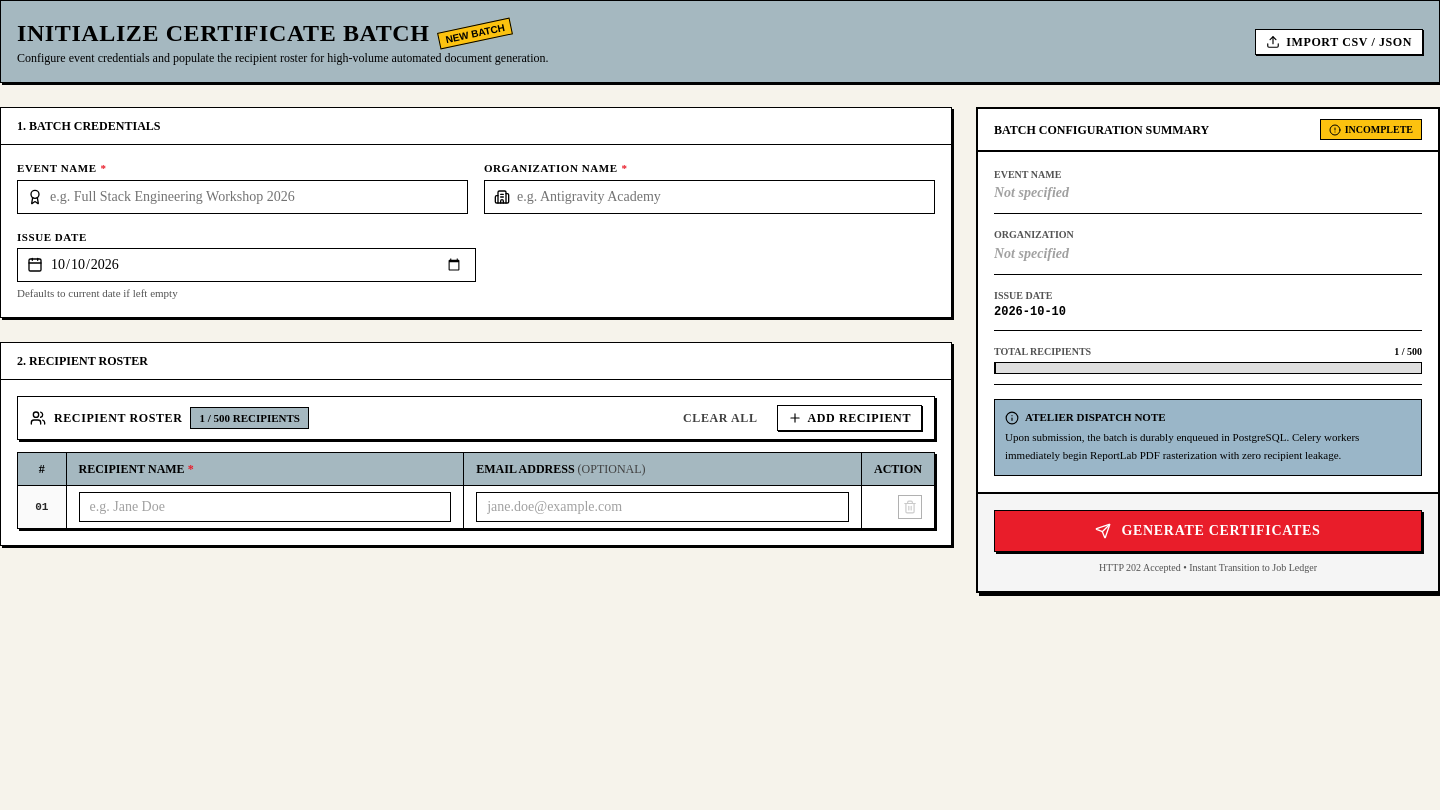
Test: CreateJobPage › 14. Form data remains intact after API failure
The image size is (1440, 810).
Type "Intact Event" into the field labelled "Event Name*" at [242, 197], box [17,180,468,214]
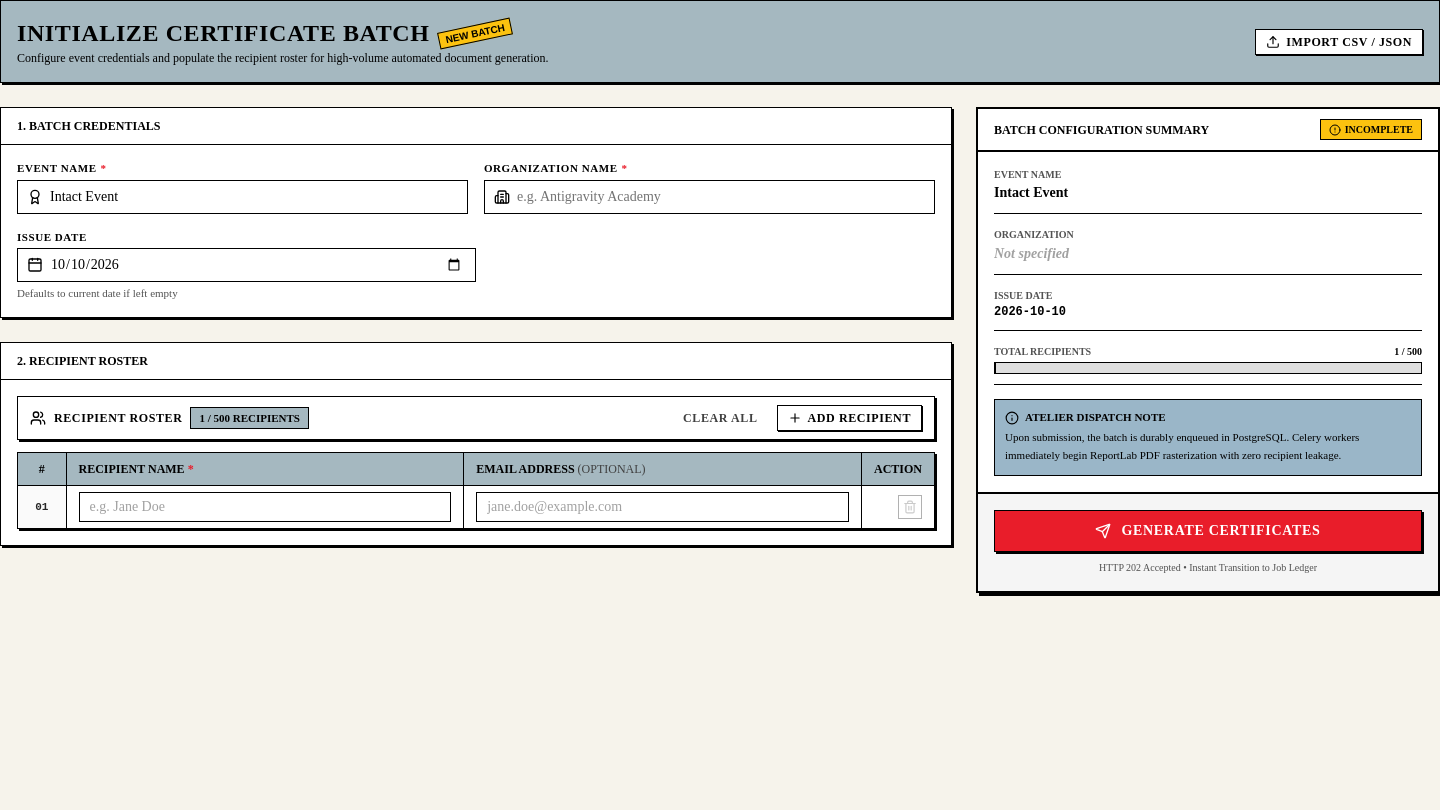
Type "Intact Org" into the field labelled "Organization Name*" at [710, 197], box [484,180,935,214]
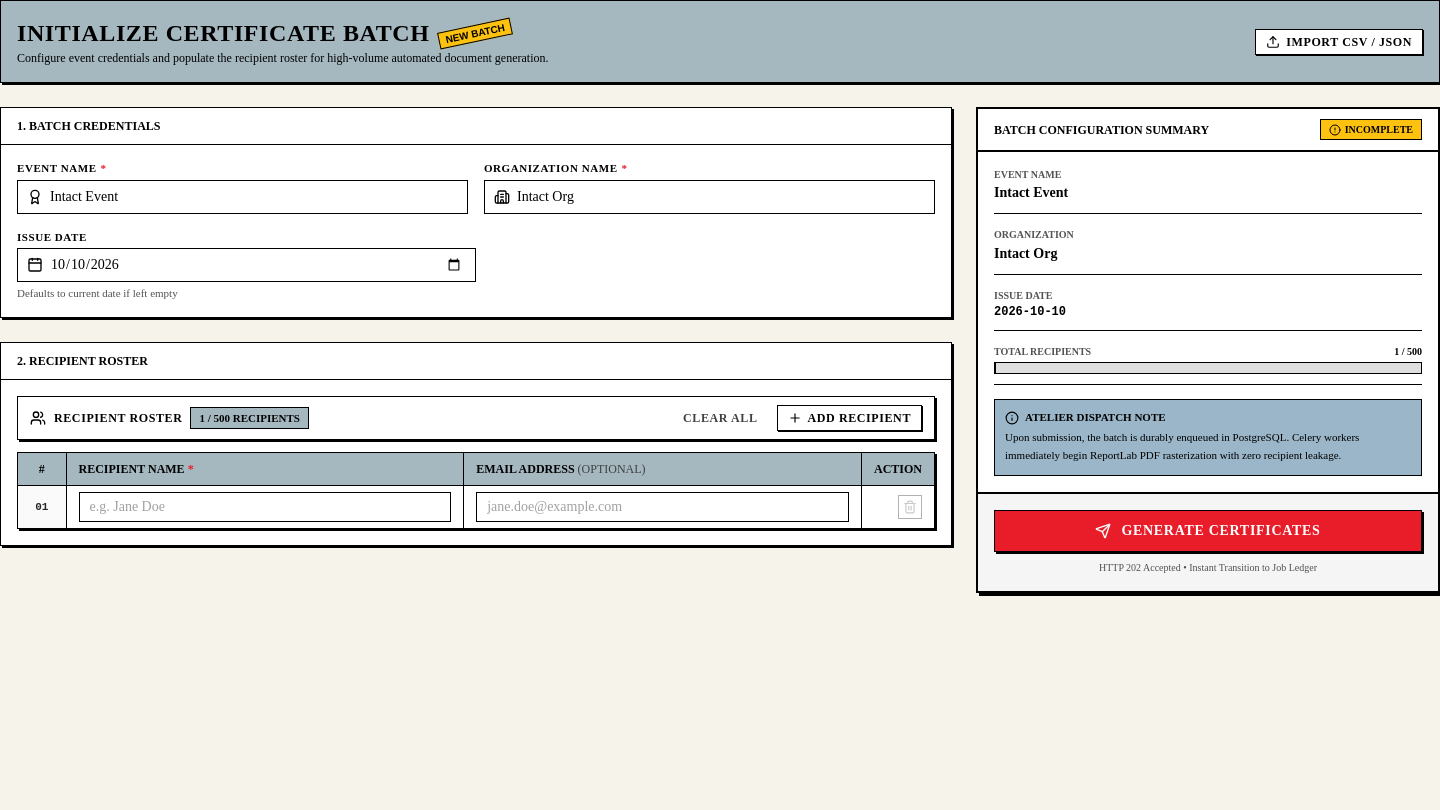
Type "Intact Recipient" into the field named "Recipient 01 Name" at [265, 507], box [78,492,451,522]
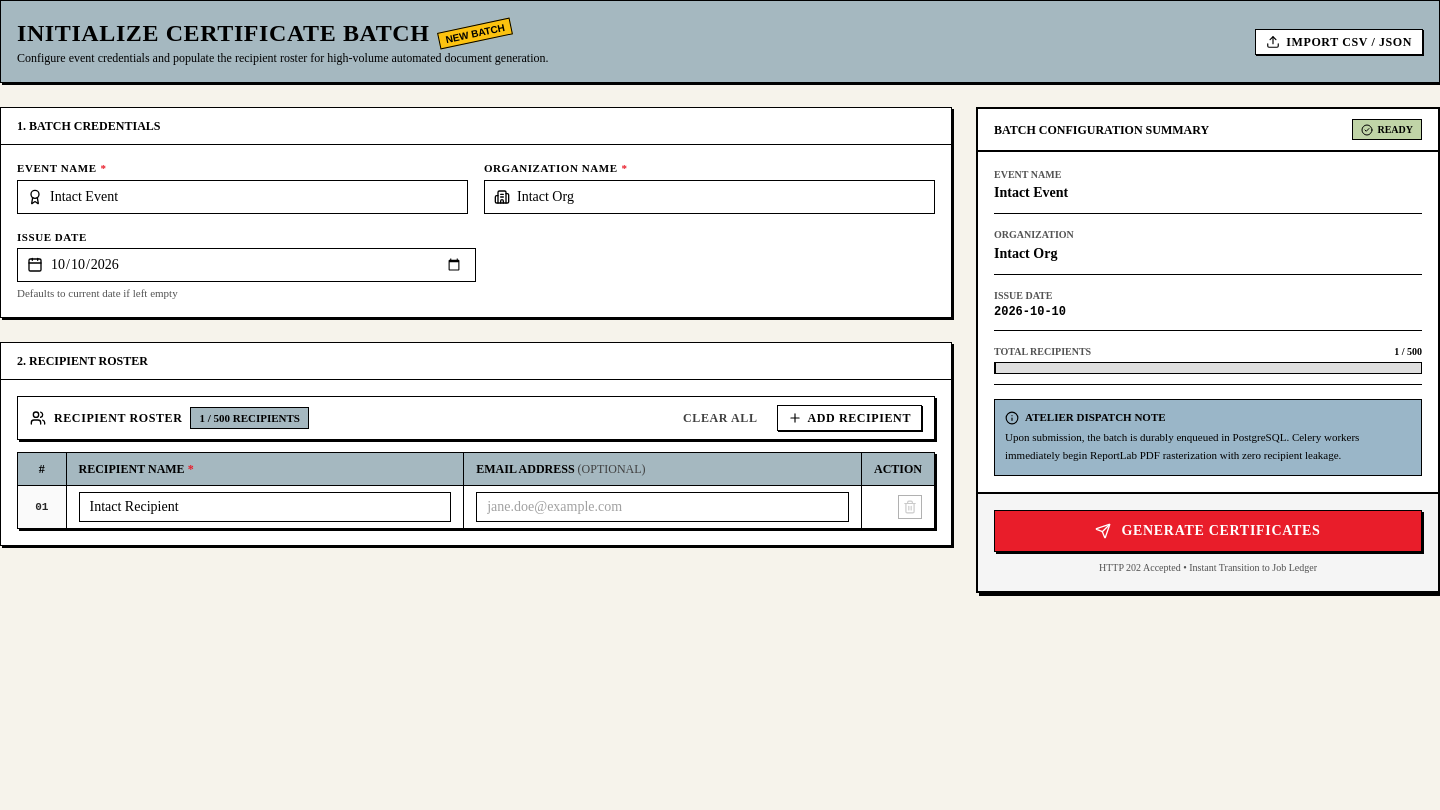
Click the button "Generate Certificates" at [1208, 531], box [994,510,1422,552]
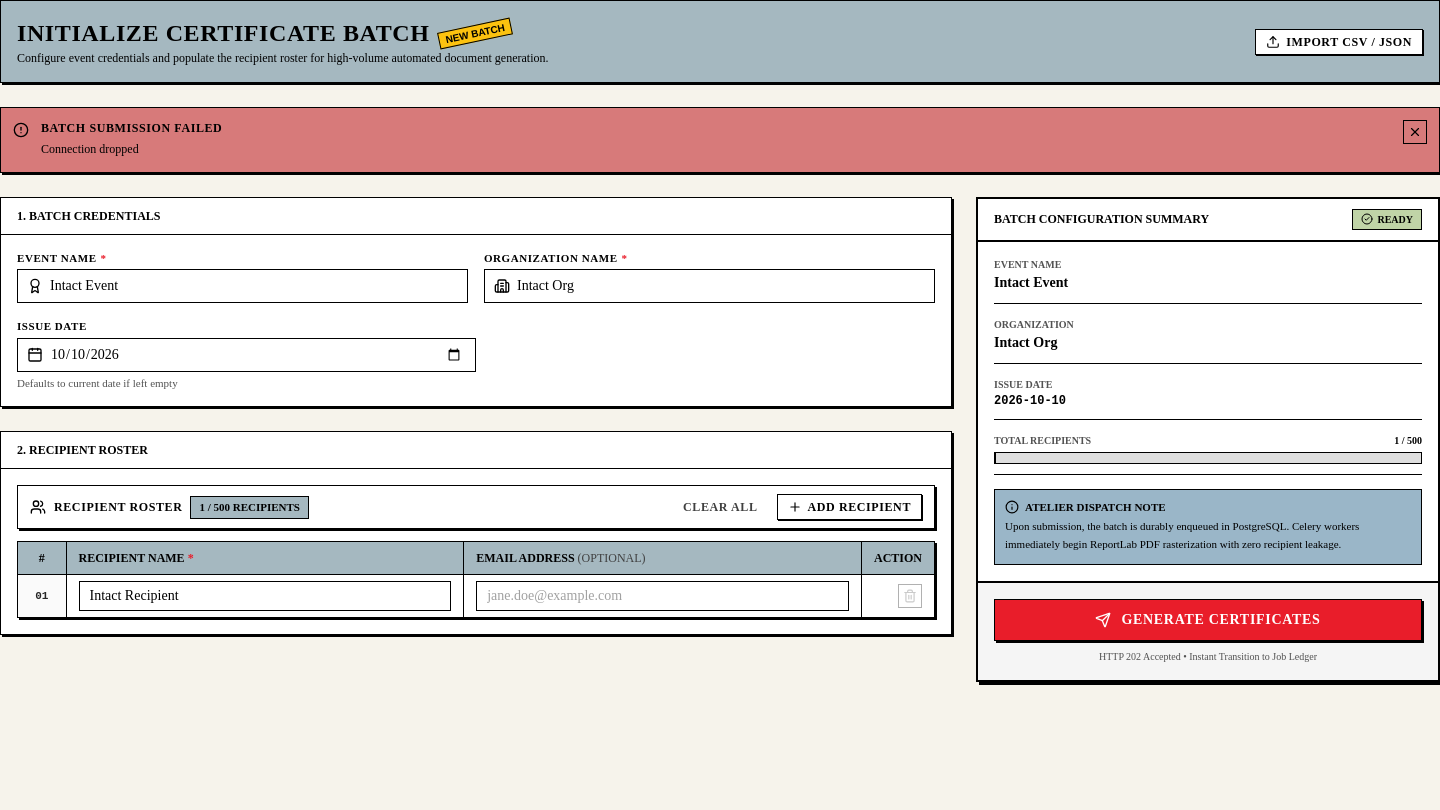
Expected: the message "Batch Submission Failed Connection dropped" is shown, [0,107,1439,172]
